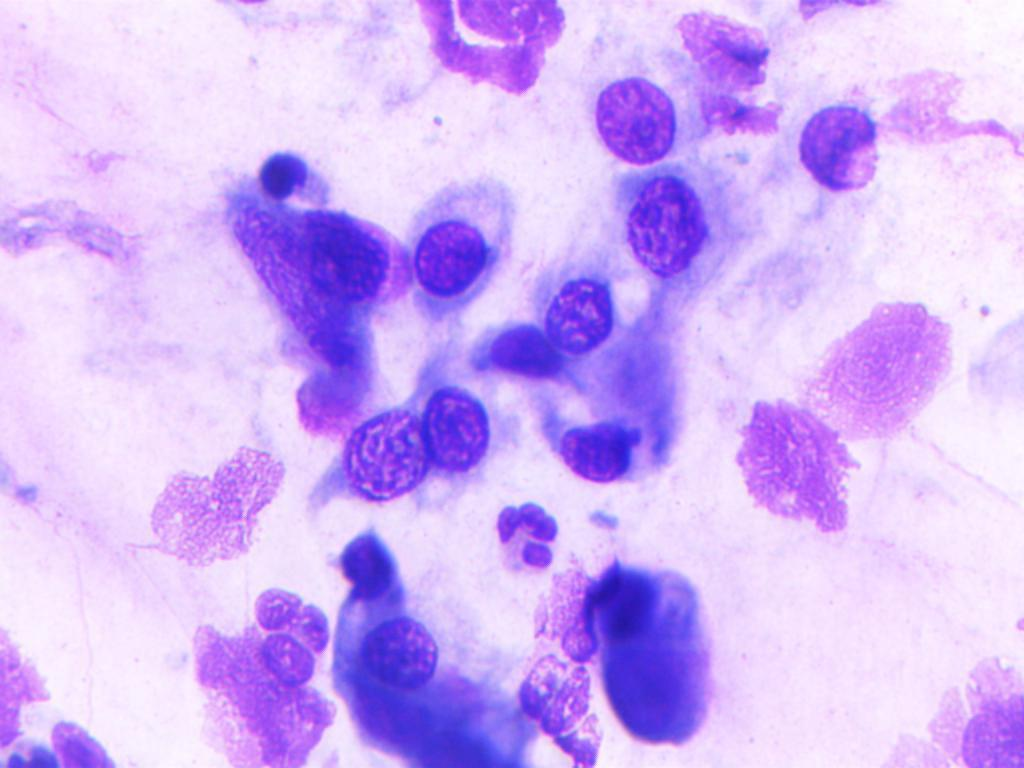artifact: (719, 393, 867, 552), (129, 446, 297, 564), (0, 617, 127, 768), (813, 299, 947, 440), (389, 0, 570, 99), (917, 641, 1024, 768), (502, 651, 604, 768), (669, 12, 774, 91)
epithelial: (784, 83, 899, 202), (319, 383, 425, 512), (282, 207, 396, 317), (546, 410, 653, 485), (367, 611, 456, 698), (589, 559, 659, 632), (488, 320, 563, 382), (257, 149, 307, 199)
lymphocyte: (408, 162, 524, 326), (577, 69, 697, 168), (619, 168, 714, 293), (418, 373, 498, 479), (546, 263, 616, 360)
neutrophil: (254, 586, 331, 687), (481, 491, 563, 574)
